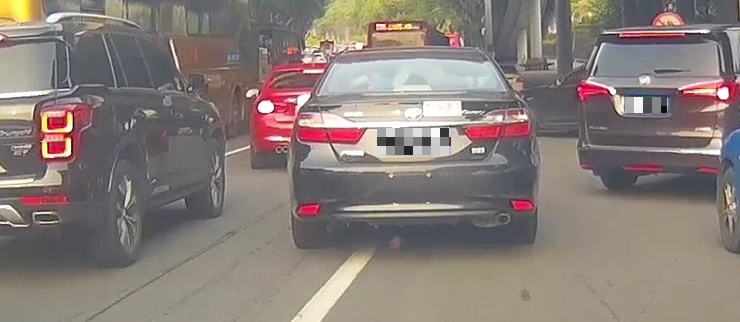L_light: (296, 111, 366, 145), (578, 79, 616, 101)
R_light: (463, 108, 532, 142), (675, 78, 740, 103)
T_light: (619, 31, 684, 37), (394, 85, 432, 92)
day-brake: (576, 26, 740, 190)
day-no: (287, 46, 540, 248)
plate_1: (377, 128, 451, 155)
plate_2: (625, 97, 667, 113)
